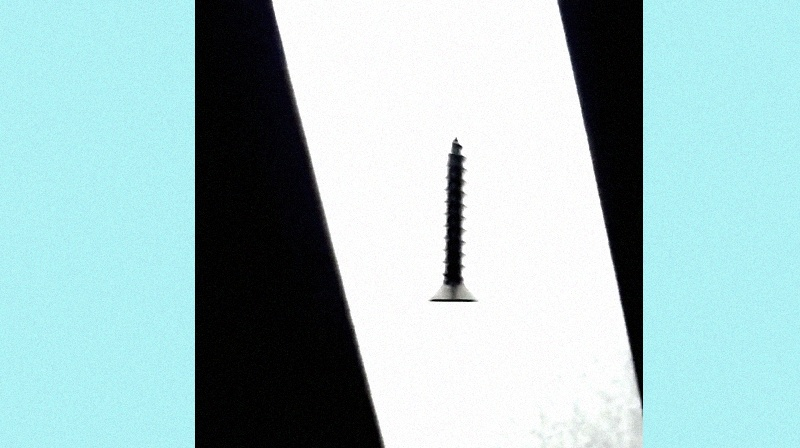S001: (424, 134, 481, 308)
